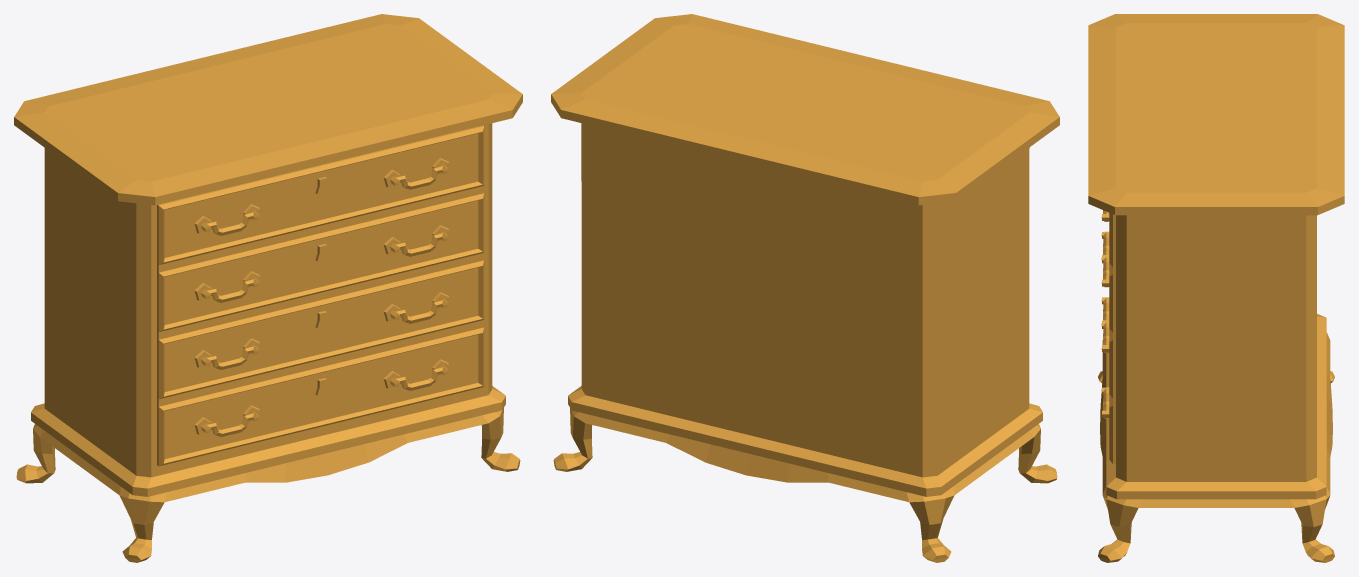
The model's file is SM_Chest_Of_Drawers_Victorian_B.fbx.
The picture shows the model from 3 angles, left to right: view 1: azimuth 30°, elevation 25°; view 2: azimuth 150°, elevation 25°; view 3: azimuth 270°, elevation 25°; orthographic projection. The views are drawn at different scales.
Parts seen in each view (by area): view 1: chest-of-drawers-victorian-b-base, chest-of-drawers-victorian-b-drawer-a, chest-of-drawers-victorian-b-drawer-c, chest-of-drawers-victorian-b-drawer-d, chest-of-drawers-victorian-b-drawer-b; view 2: chest-of-drawers-victorian-b-base; view 3: chest-of-drawers-victorian-b-base, chest-of-drawers-victorian-b-drawer-d, chest-of-drawers-victorian-b-drawer-c, chest-of-drawers-victorian-b-drawer-b, chest-of-drawers-victorian-b-drawer-a.
Boxes of the visible parts, x1=… form: chest-of-drawers-victorian-b-base: x1=14, y1=14, x2=522, y2=562; chest-of-drawers-victorian-b-drawer-a: x1=157, y1=125, x2=484, y2=264; chest-of-drawers-victorian-b-drawer-c: x1=157, y1=260, x2=484, y2=399; chest-of-drawers-victorian-b-drawer-d: x1=157, y1=327, x2=484, y2=466; chest-of-drawers-victorian-b-drawer-b: x1=157, y1=193, x2=484, y2=332; chest-of-drawers-victorian-b-base: x1=551, y1=14, x2=1059, y2=562; chest-of-drawers-victorian-b-base: x1=1088, y1=14, x2=1344, y2=562; chest-of-drawers-victorian-b-drawer-d: x1=1101, y1=297, x2=1115, y2=464; chest-of-drawers-victorian-b-drawer-c: x1=1101, y1=231, x2=1115, y2=398; chest-of-drawers-victorian-b-drawer-b: x1=1101, y1=256, x2=1115, y2=332; chest-of-drawers-victorian-b-drawer-a: x1=1101, y1=210, x2=1115, y2=267.
Bounding box in the file's own units: 1.14 × 0.9943 × 0.6376.
